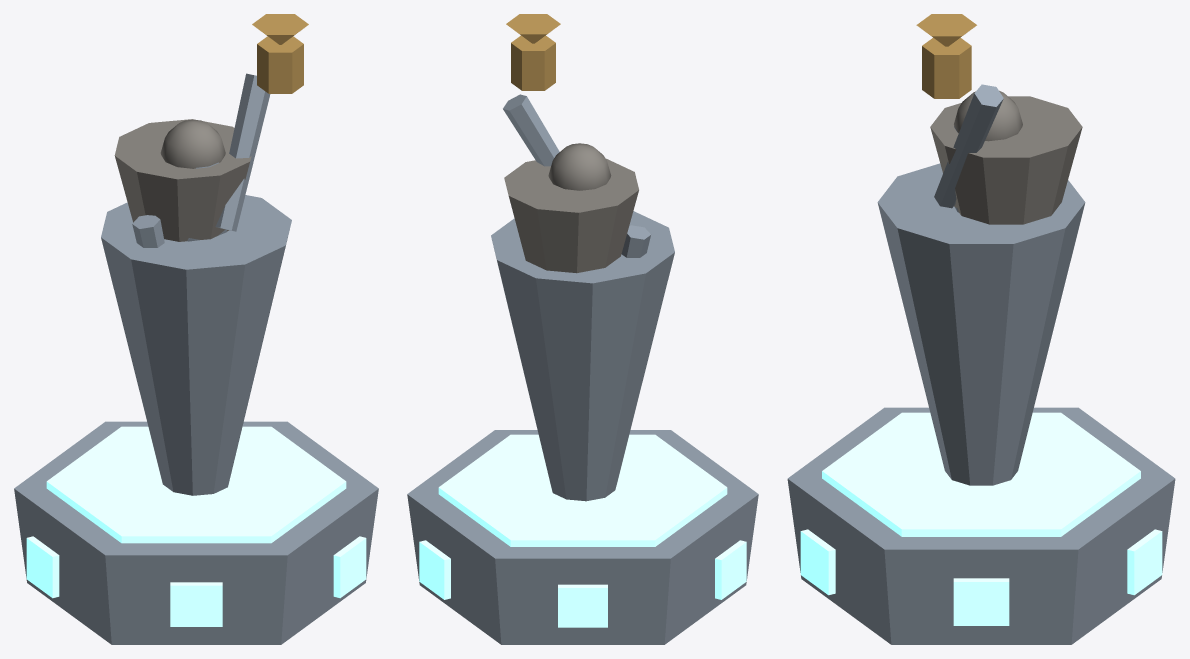
File: lantern_maiden_statue.glb
The picture shows the model from 3 angles, left to right: view 1: azimuth 30°, elevation 25°; view 2: azimuth 150°, elevation 25°; view 3: azimuth 270°, elevation 25°; orthographic projection. The views are drawn at different scales.
Parts seen in each view (by area): view 1: Plinth, Robe, PlinthTrim, Veil, ArmRaised, Hood, LanternCage, Rune4, Rune3, Rune5, LanternCap, ArmLow; view 2: Plinth, Robe, PlinthTrim, Veil, Hood, LanternCage, Rune2, ArmRaised, Rune1, Rune3, LanternCap, ArmLow; view 3: Plinth, Robe, PlinthTrim, Veil, ArmRaised, LanternCage, Rune0, Rune1, Rune5, Hood, LanternCap.
Boxes of the visible parts, <box> form: Plinth: <box>14,421,378,644</box>; Robe: <box>101,195,291,495</box>; PlinthTrim: <box>46,426,346,543</box>; Veil: <box>114,119,251,241</box>; ArmRaised: <box>215,73,270,231</box>; Hood: <box>160,119,225,168</box>; LanternCage: <box>257,36,303,93</box>; Rune4: <box>170,582,222,626</box>; Rune3: <box>26,536,59,598</box>; Rune5: <box>333,536,366,598</box>; LanternCap: <box>252,14,308,44</box>; ArmLow: <box>132,215,164,247</box>; Plinth: <box>407,430,758,644</box>; Robe: <box>491,211,674,501</box>; PlinthTrim: <box>438,434,727,546</box>; Veil: <box>504,158,638,273</box>; Hood: <box>548,143,611,190</box>; LanternCage: <box>511,35,555,90</box>; Rune2: <box>558,584,607,627</box>; ArmRaised: <box>503,94,559,166</box>; Rune1: <box>419,540,450,599</box>; Rune3: <box>715,540,746,599</box>; LanternCap: <box>506,14,560,43</box>; ArmLow: <box>621,225,650,257</box>; Plinth: <box>787,407,1175,644</box>; Robe: <box>877,163,1085,485</box>; PlinthTrim: <box>822,412,1140,536</box>; Veil: <box>930,96,1082,224</box>; ArmRaised: <box>934,84,1003,208</box>; LanternCage: <box>922,38,971,98</box>; Rune0: <box>953,578,1009,625</box>; Rune1: <box>1127,529,1162,595</box>; Rune5: <box>800,529,835,595</box>; Hood: <box>954,90,1022,141</box>; LanternCap: <box>916,14,976,46</box>.
Size of the model in its own units: 2.78 by 4.69 by 2.8.
